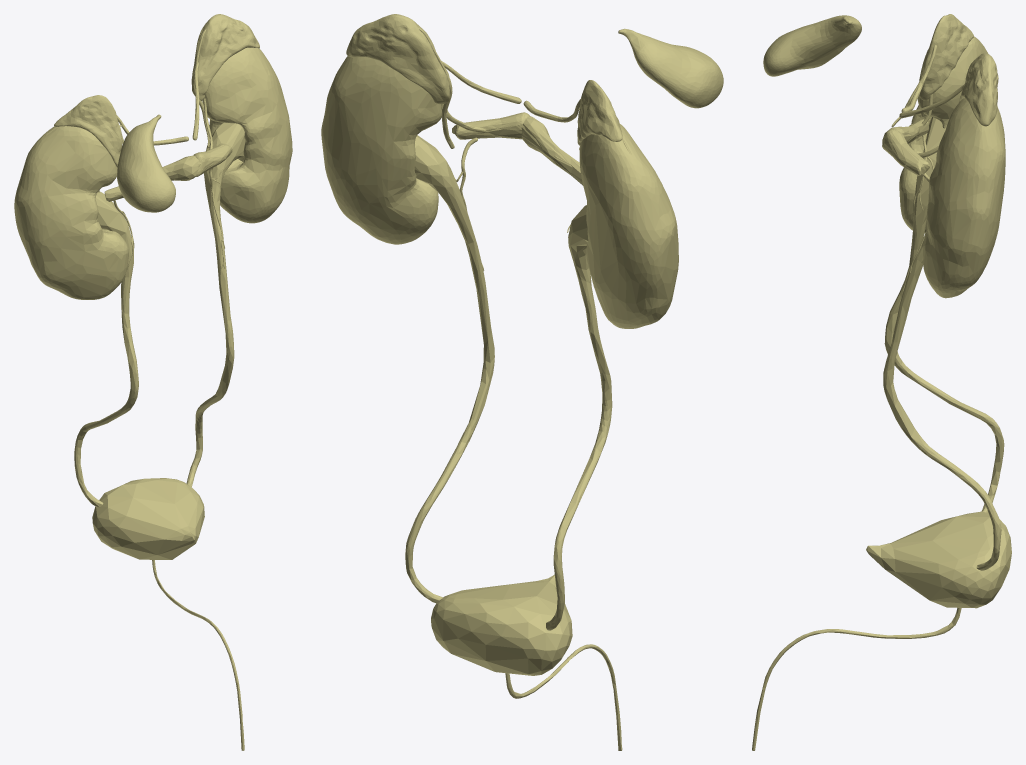
File: urinary.glb
3 renders of one model, left to right at view 1: azimuth 30°, elevation 25°; view 2: azimuth 150°, elevation 25°; view 3: azimuth 270°, elevation 25°, orthographic. The views are drawn at different scales.
Parts seen in each view (by area): view 1: FJ3147, FJ3145, FJ3149, FJ3144, FJ2817, FJ3146, FJ3129, FJ3130, FJ3148, FJ3576; view 2: FJ3145, FJ3147, FJ3149, FJ3144, FJ3146, FJ3129, FJ2817, FJ3130, FJ3148, FJ3576, FJ2046, FJ2038; view 3: FJ3145, FJ3149, FJ3146, FJ2817, FJ3144, FJ3147, FJ3130, FJ3129, FJ3148, FJ2046, FJ3476.
Boxes of the visible parts, box(x1,y1,x2,y2) form: FJ3147: box(14, 126, 128, 299); FJ3145: box(202, 47, 292, 223); FJ3149: box(92, 478, 204, 559); FJ3144: box(186, 123, 245, 486); FJ2817: box(117, 114, 175, 212); FJ3146: box(74, 191, 138, 507); FJ3129: box(191, 14, 259, 100); FJ3130: box(54, 95, 122, 167); FJ3148: box(152, 560, 244, 750); FJ3576: box(114, 155, 198, 195); FJ3145: box(321, 56, 441, 244); FJ3147: box(579, 124, 678, 328); FJ3149: box(431, 574, 572, 675); FJ3144: box(405, 135, 494, 603); FJ3146: box(546, 205, 612, 630); FJ3129: box(346, 14, 450, 104); FJ2817: box(618, 28, 723, 108); FJ3130: box(577, 80, 622, 145); FJ3148: box(505, 644, 622, 750); FJ3576: box(521, 116, 579, 176); FJ2046: box(452, 112, 529, 139); FJ2038: box(521, 116, 583, 185); FJ3145: box(923, 98, 1005, 298); FJ3149: box(866, 511, 1011, 608); FJ3146: box(884, 117, 1004, 513); FJ2817: box(763, 15, 861, 76); FJ3144: box(883, 239, 1001, 570); FJ3147: box(899, 36, 987, 233); FJ3130: box(919, 14, 973, 100); FJ3129: box(959, 53, 998, 126); FJ3148: box(752, 608, 961, 750); FJ2046: box(882, 129, 929, 175); FJ3476: box(882, 129, 922, 171).
Size of the model in its own units: 0.178 by 0.3997 by 0.1276.
